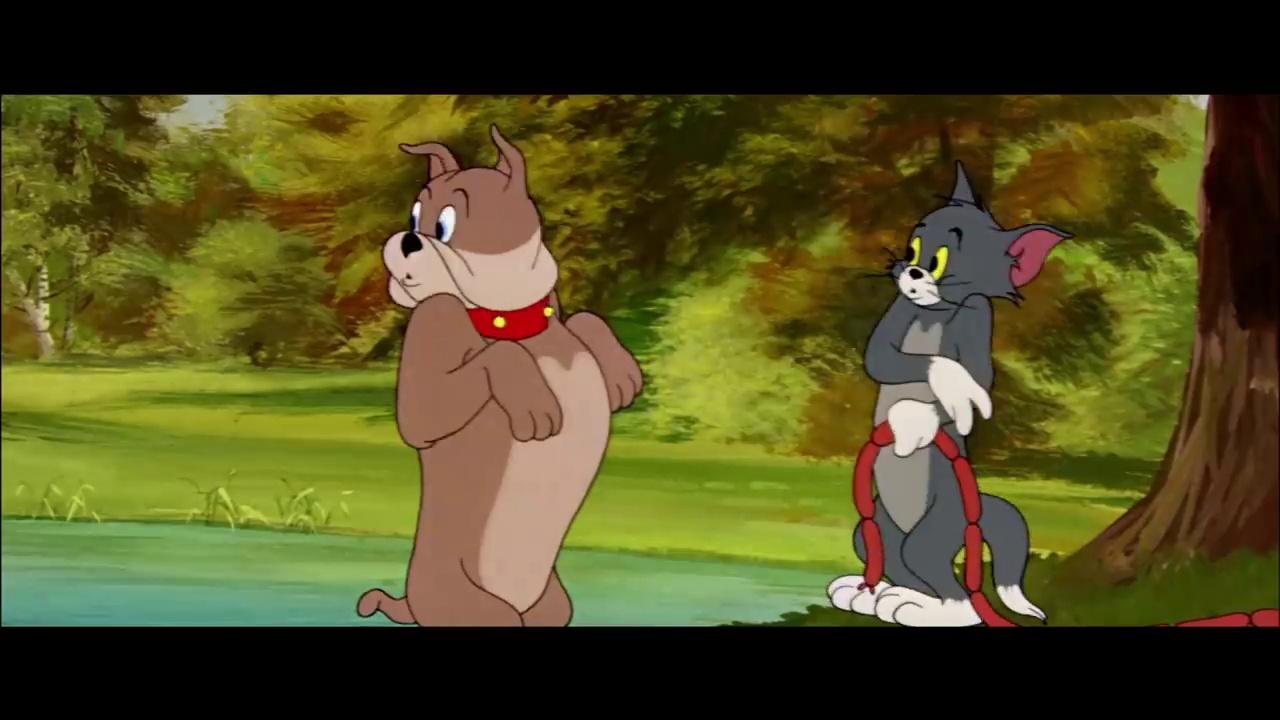Tom: (825, 157, 1076, 627)
